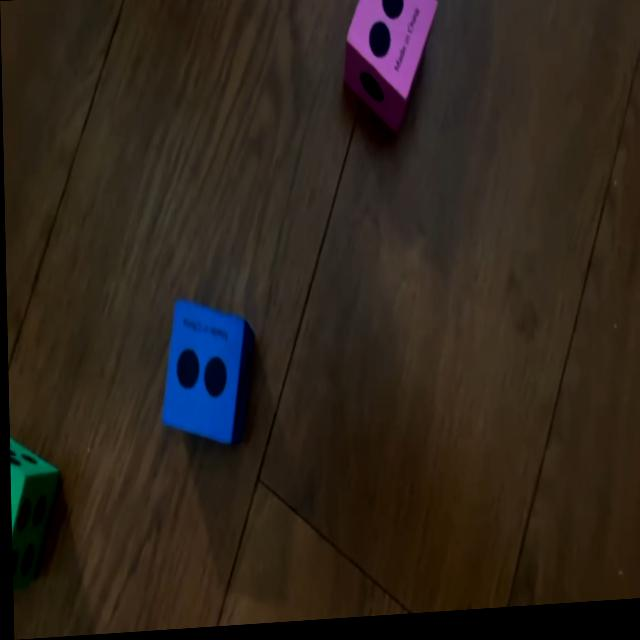cube: (159, 300, 254, 453), (8, 432, 58, 579)
